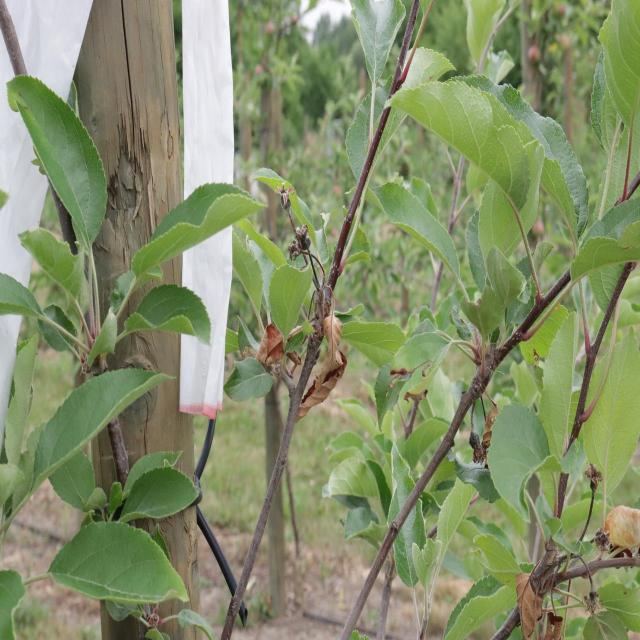-FireBlight-: (298, 274, 342, 412), (513, 570, 566, 640), (600, 501, 636, 572), (260, 309, 282, 381), (480, 411, 500, 476)
